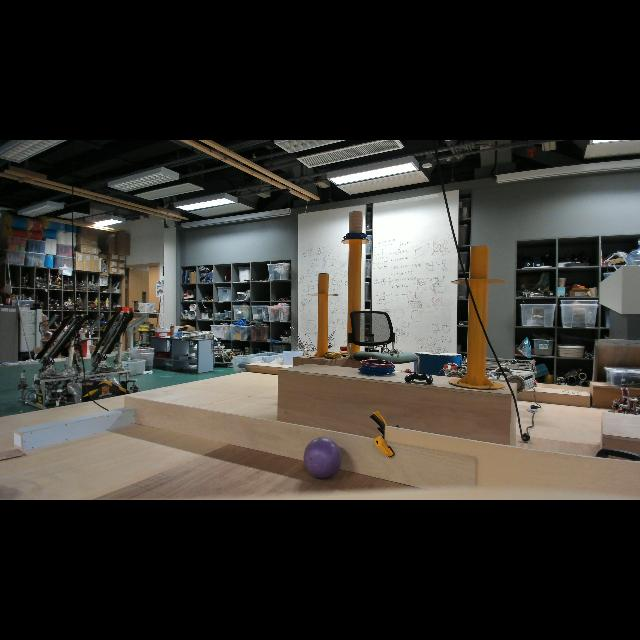P: (303, 436, 343, 480)
